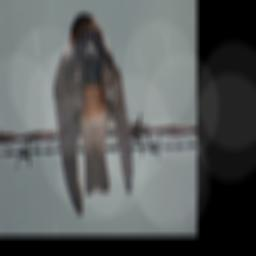Swallow: (53, 12, 135, 218)
